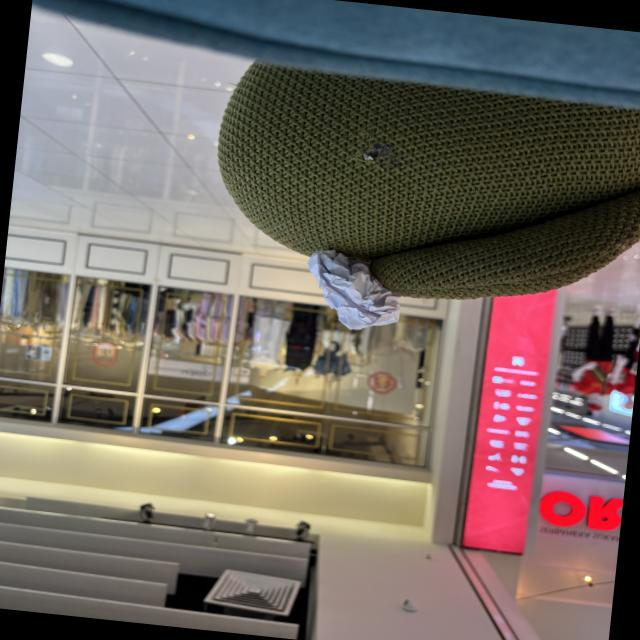crumpled_paper: (293, 242, 408, 339)
